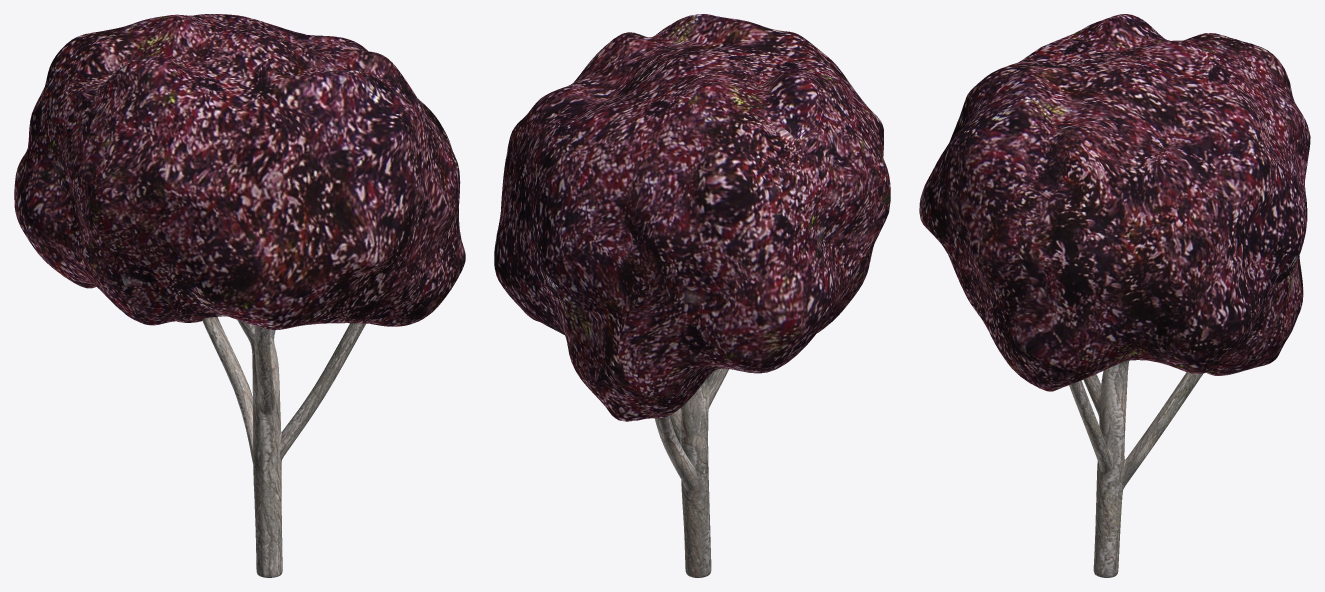
Rendered from plum.obj.
The picture shows the model from 3 angles, left to right: view 1: azimuth 30°, elevation 25°; view 2: azimuth 150°, elevation 25°; view 3: azimuth 270°, elevation 25°; orthographic projection. The views are drawn at different scales.
Visible parts, largest first — view 1: 10448_Purple_Leaf_Plum_Tree_v1_Iteration2; view 2: 10448_Purple_Leaf_Plum_Tree_v1_Iteration2; view 3: 10448_Purple_Leaf_Plum_Tree_v1_Iteration2.
Part boxes in pixels (x1=…): 10448_Purple_Leaf_Plum_Tree_v1_Iteration2: x1=14, y1=14, x2=465, y2=577; 10448_Purple_Leaf_Plum_Tree_v1_Iteration2: x1=494, y1=14, x2=890, y2=577; 10448_Purple_Leaf_Plum_Tree_v1_Iteration2: x1=919, y1=14, x2=1310, y2=577.
Size of the model in its own units: 5.71 by 8.22 by 5.74.
Materials: 1 (1 with a texture image).
